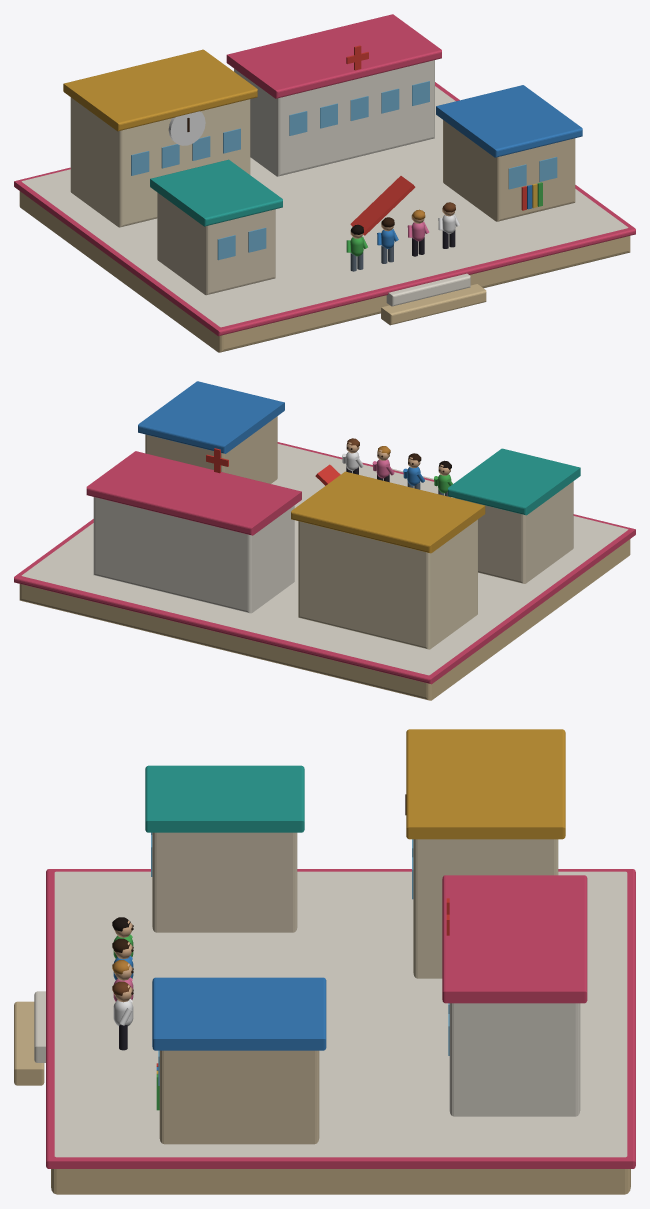
File: institutions.glb
The picture shows the model from 3 angles, top to bottom: view 1: azimuth 30°, elevation 25°; view 2: azimuth 150°, elevation 25°; view 3: azimuth 270°, elevation 25°; orthographic projection. The views are drawn at different scales.
Parts seen in each view (by area): view 1: part_000; view 2: part_000; view 3: part_000.
Part boxes in pixels (bbox=[...]): part_000: bbox=[14, 14, 635, 352]; part_000: bbox=[14, 381, 635, 700]; part_000: bbox=[14, 729, 635, 1194].
Size of the model in its own units: 9.54 by 3.05 by 8.58.
